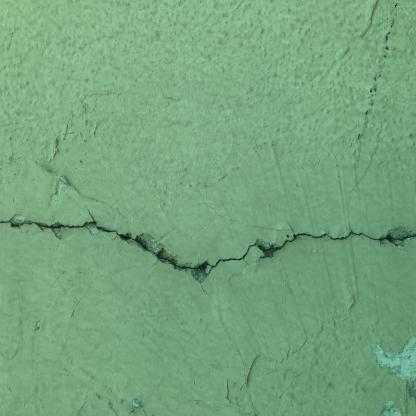crack: (1, 213, 416, 285)
